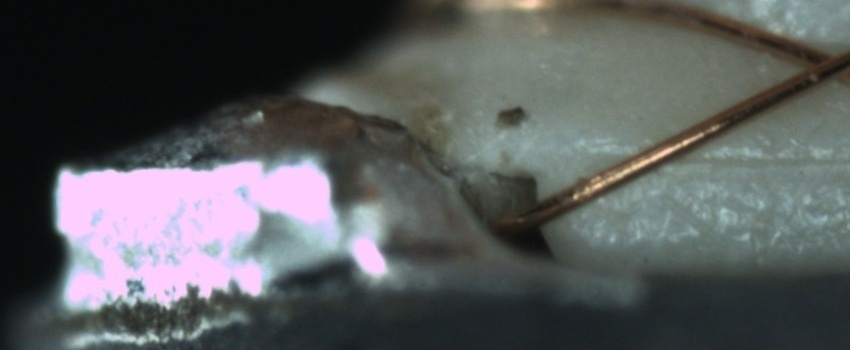CL: (782, 33, 848, 91)
DL: (607, 125, 844, 192)
